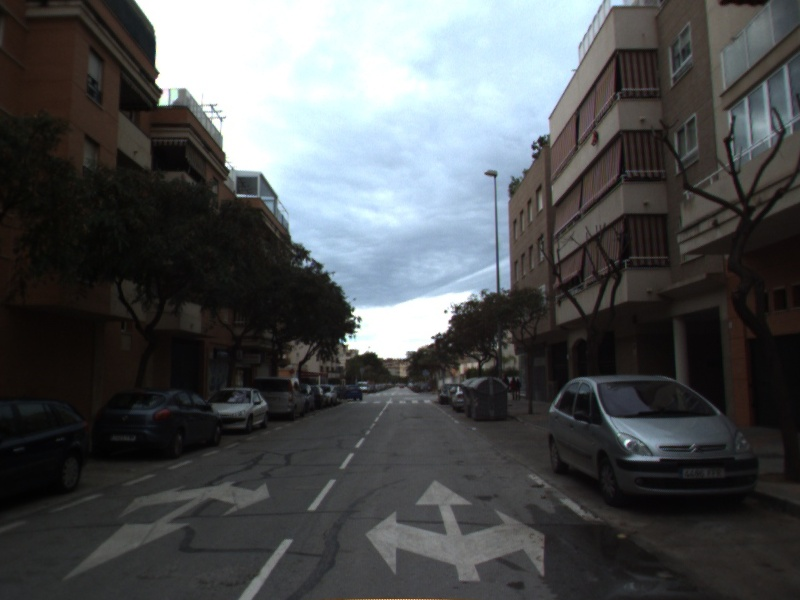STRAIGHT_LEFT_RIGHT: (363, 476, 548, 584)
